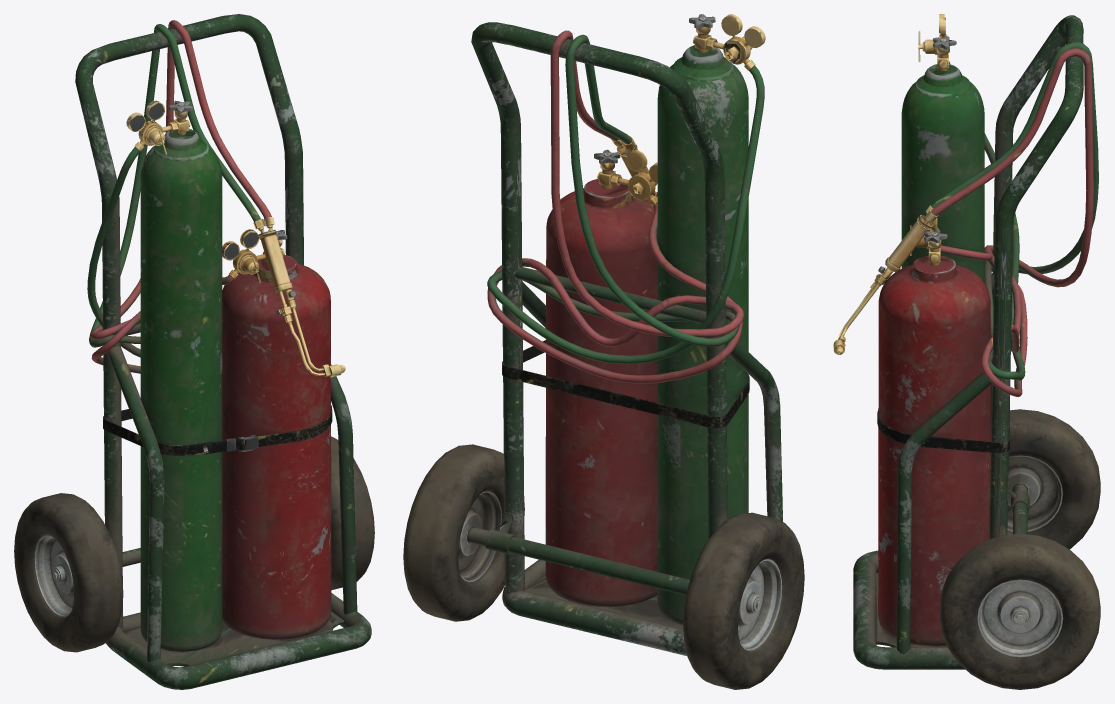
Rendered from portable-welding-cart.glb.
The picture shows the model from 3 angles, left to right: view 1: azimuth 30°, elevation 25°; view 2: azimuth 150°, elevation 25°; view 3: azimuth 270°, elevation 25°; orthographic projection. The views are drawn at different scales.
Visible parts, largest first — view 1: portable_welding_cart; view 2: portable_welding_cart; view 3: portable_welding_cart.
Boxes of the visible parts, x1,y1,x2,y2 form: portable_welding_cart: (14, 14, 374, 689); portable_welding_cart: (403, 14, 804, 689); portable_welding_cart: (833, 14, 1100, 689).
Size of the model in its own units: 0.8384 by 1.56 by 0.655.
2 materials, 2 textured.
